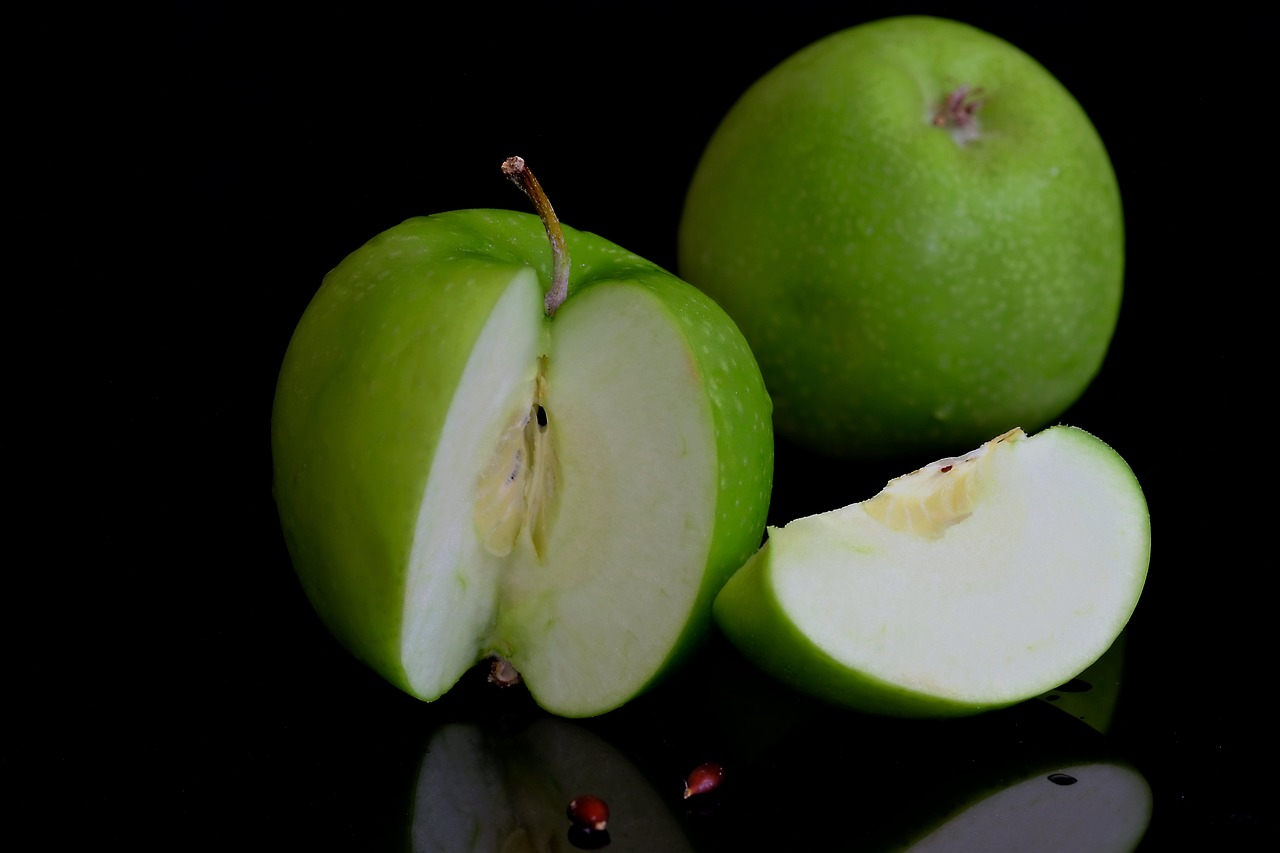apel: (249, 188, 796, 729), (673, 8, 1145, 462), (722, 416, 1204, 757)
